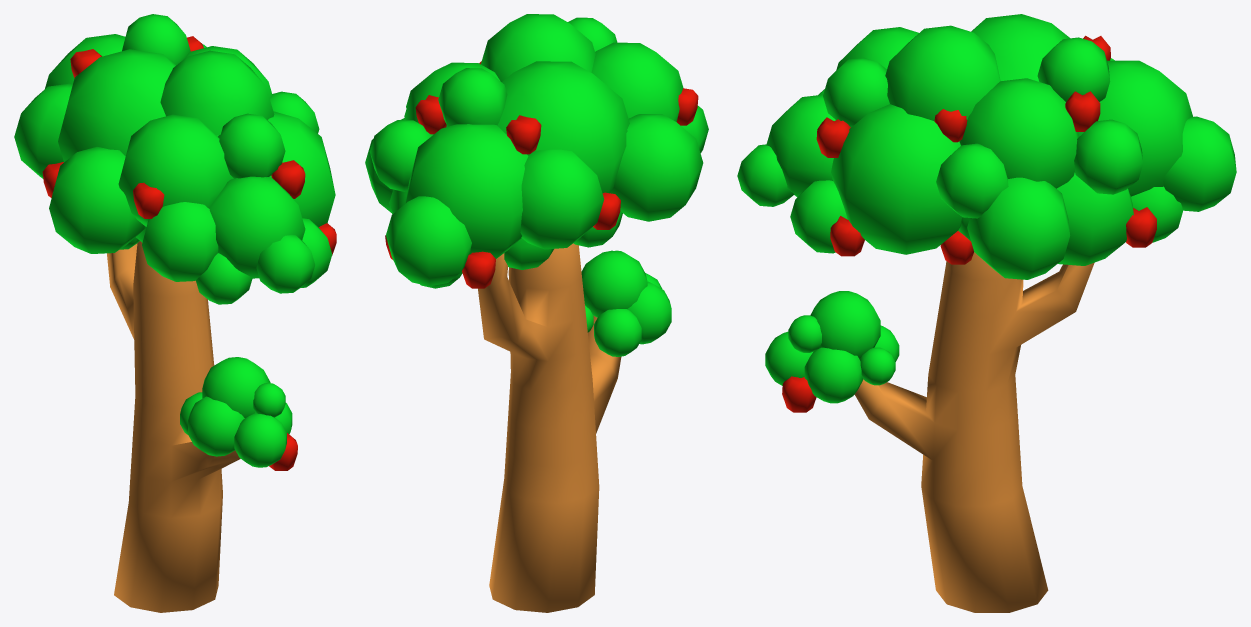
Rendered from 1Tree.fbx.
The picture shows the model from 3 angles, left to right: view 1: azimuth 30°, elevation 25°; view 2: azimuth 150°, elevation 25°; view 3: azimuth 270°, elevation 25°; orthographic projection. The views are drawn at different scales.
Visible parts, largest first — view 1: Circle.001; view 2: Circle.001; view 3: Circle.001.
Part boxes in pixels (x1,y1,x2,y2): Circle.001: (14, 14, 336, 612); Circle.001: (365, 14, 708, 612); Circle.001: (737, 14, 1236, 612).
Size of the model in its own units: 929 by 1680 by 1330.
